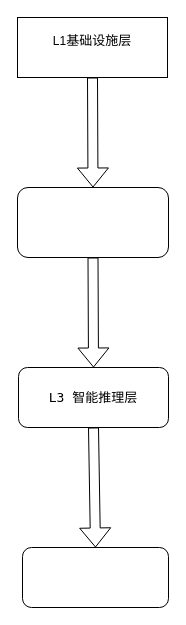
Image size: 186x625. Some labels were removed from this diagram. Here are the shapes that lost their labels. From the top down, the centre of each, then its label:
point 92,222: L2 感知与知识层
point 95,577: L4 执行与应用层
